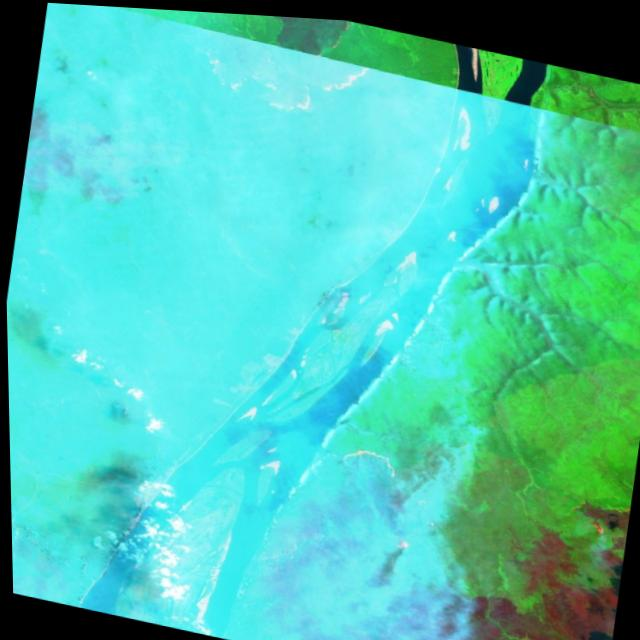fire: (189, 25, 384, 133), (324, 433, 410, 483), (385, 526, 428, 557)
